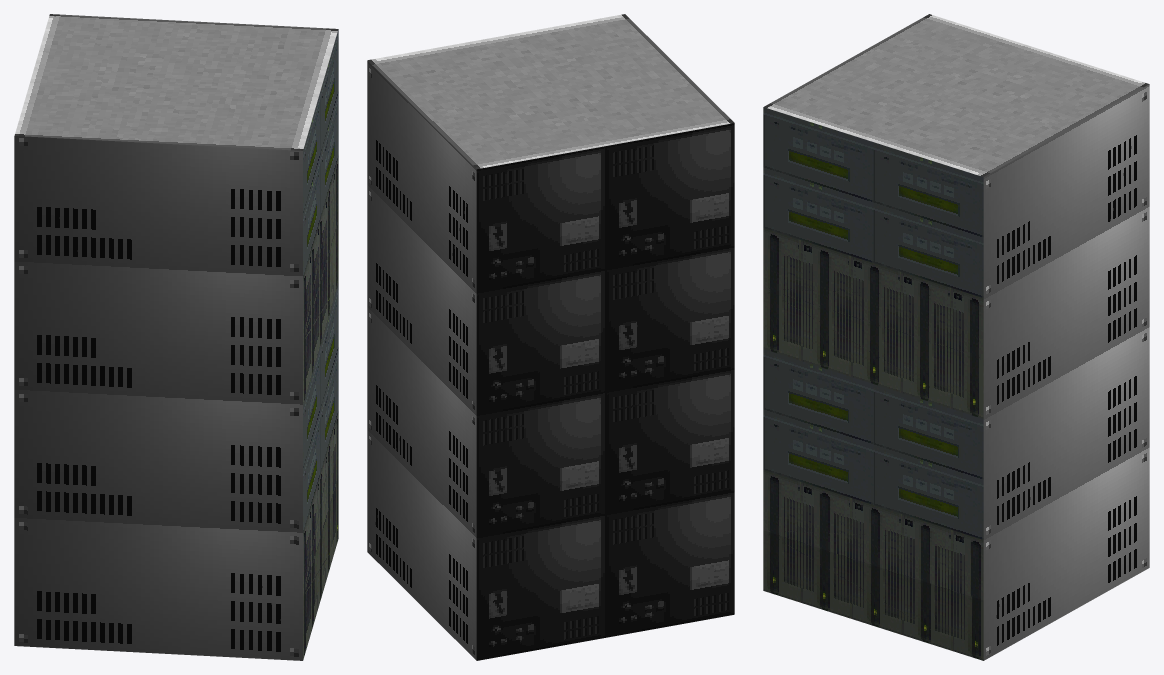
The model's file is dam_mainframe.glb.
3 views of the same model, side by side, from view 1: azimuth 30°, elevation 25°; view 2: azimuth 150°, elevation 25°; view 3: azimuth 270°, elevation 25° (orthographic). The views are drawn at different scales.
Visible parts, largest first — view 1: Object; view 2: Object; view 3: Object.
Boxes of the visible parts, x1,y1,x2,y2 form: Object: [14, 14, 338, 660]; Object: [367, 14, 734, 660]; Object: [763, 14, 1149, 660].
Size of the model in its own units: 1.48 by 2.04 by 1.48.
Materials: 9 (9 with a texture image).
